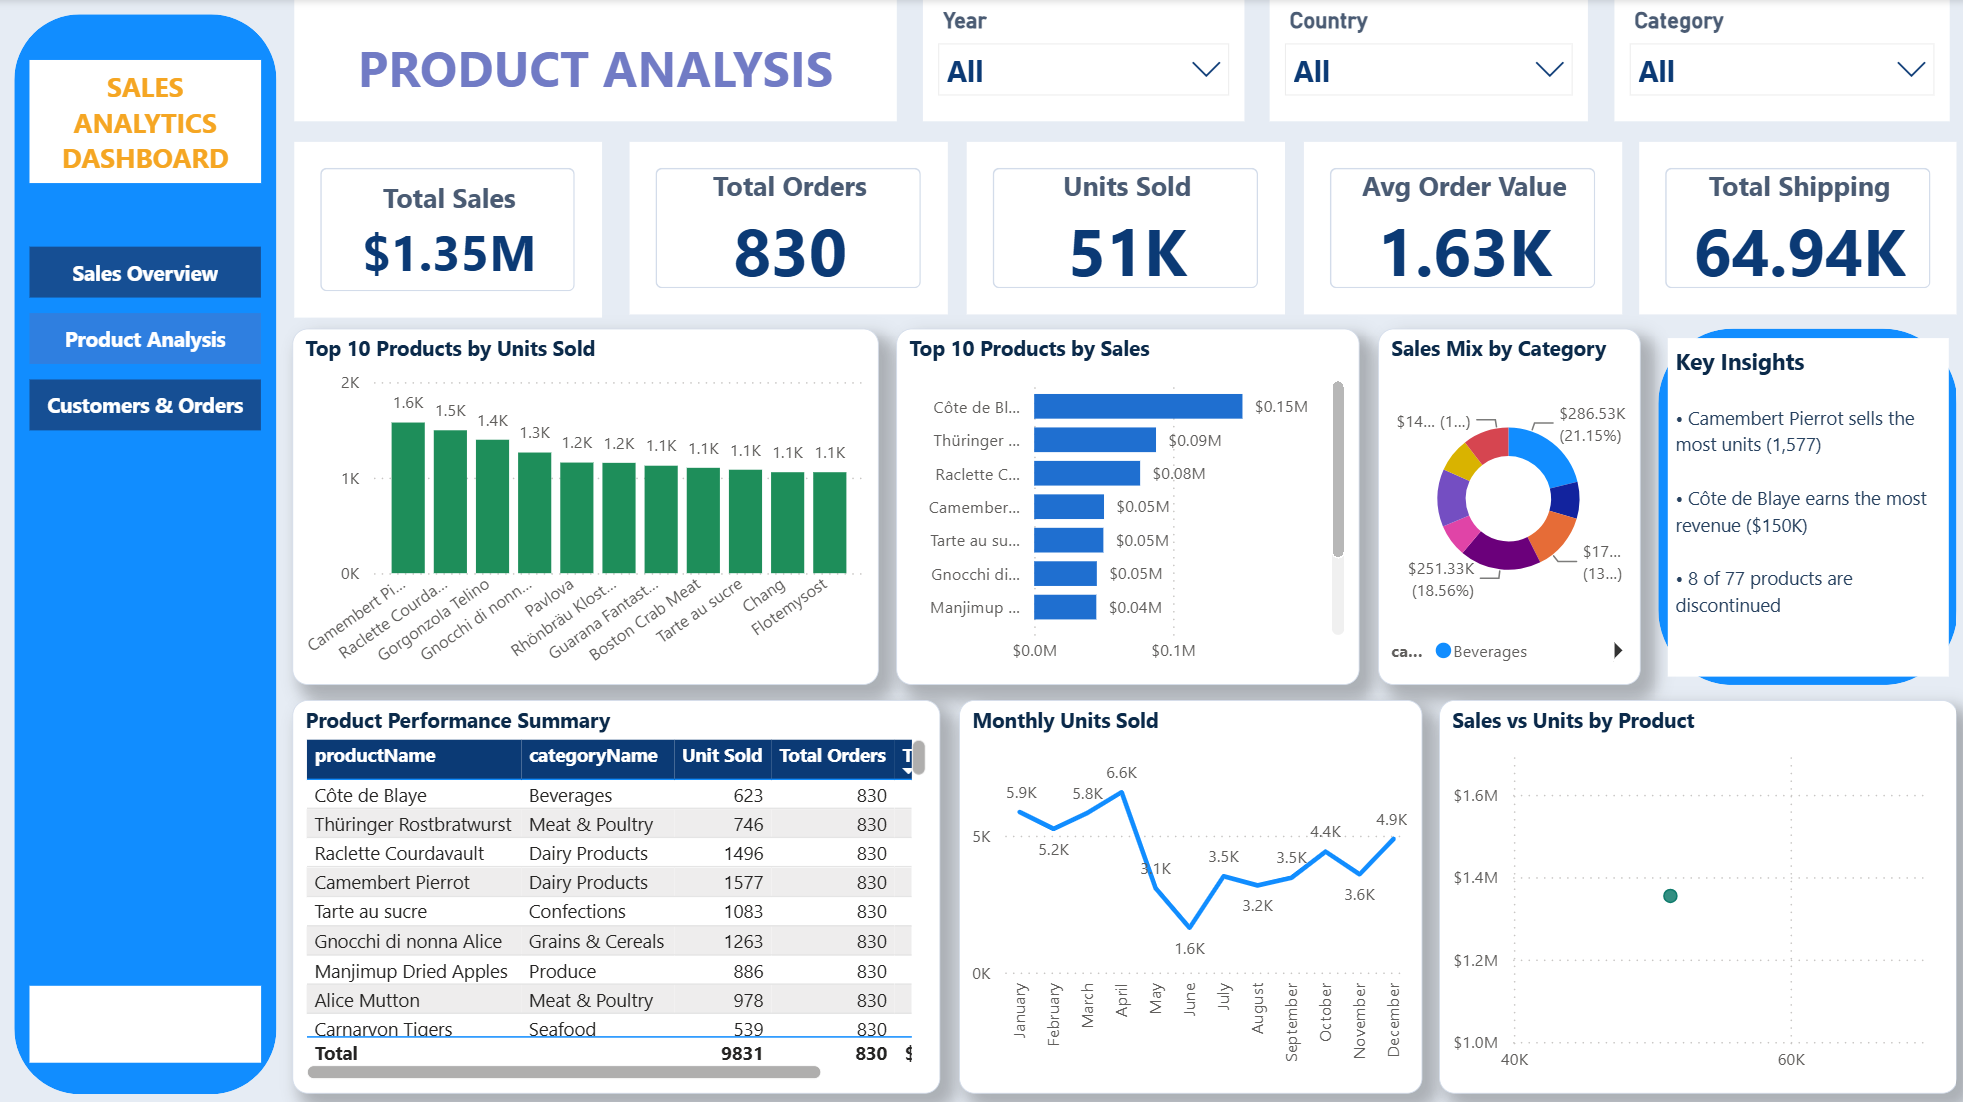

Layout of this report page (visuals, bound fields, positions):
{"tool":"powerbi","page":{"name":"Product Analysis","canvas":[1280,720],"ordinal":1},"visuals":[{"type":"shape","box":[10,10,170,700],"z":0},{"type":"textbox","box":[20,40,150,80],"z":1000},{"type":"pageNavigator","box":[20,160,150,120],"z":2000},{"type":"textbox","box":[20,640,150,50],"z":3000},{"type":"clusteredColumnChart","title":"Top 10 Products by Units Sold","fields":{"Category":["products.productName"],"Y":["categories.Unit Sold"]},"box":[190,214,380,231.2],"z":15000},{"type":"clusteredBarChart","title":"Top 10 Products by Sales","fields":{"Category":["products.productName"],"Y":["categories.Total sales"]},"box":[582,214,300,231.2],"z":16000},{"type":"donutChart","title":"Sales Mix by Category","fields":{"Category":["categories.categoryName"],"Y":["categories.Total sales"]},"box":[894,214,170,231.2],"z":17000},{"type":"shape","box":[1076,214,194,231.2],"z":18000},{"type":"textbox","box":[1082,219.8,182,219.6],"z":19000},{"type":"tableEx","title":"Product Performance Summary","fields":{"Values":["products.productName","categories.categoryName","categories.Unit Sold","categories.Total Orders","categories.Total sales"]},"box":[190,454.8,420,255.2],"z":20000},{"type":"lineChart","title":"Monthly Units Sold","fields":{"Category":["orders.orderDate.Variation.Date Hierarchy.Month"],"Y":["categories.Unit Sold"]},"box":[622,454.8,300,255.2],"z":21000},{"type":"scatterChart","title":"Sales vs Units by Product","fields":{"Details":["products.productName"],"X":["categories.Unit Sold"],"Y":["categories.Total sales"]},"box":[934,454.8,336,255.2],"z":22000},{"type":"slicer","fields":{"Values":["orders.orderDate.Variation.Date Hierarchy.Year"]},"box":[599.2,0,208.5,79],"z":22001},{"type":"slicer","fields":{"Values":["customers.country"]},"box":[823,0,206.3,79],"z":22002},{"type":"slicer","fields":{"Values":["categories.categoryName"]},"box":[1046.9,0,217.3,79],"z":22003},{"type":"textbox","box":[190.9,0,390.7,79],"z":22004},{"type":"cardVisual","fields":{"Data":["categories.Total sales"]},"box":[190.9,92.2,199.7,114.1],"z":22005},{"type":"cardVisual","fields":{"Data":["categories.Total Orders"]},"box":[408.4,92,206.4,112],"z":22006},{"type":"cardVisual","fields":{"Data":["categories.Unit Sold"]},"box":[626.8,92,206.4,112],"z":22007},{"type":"cardVisual","fields":{"Data":["categories.Avg order"]},"box":[845.2,92,206.4,112],"z":22008},{"type":"cardVisual","fields":{"Data":["categories.Total Shipping"]},"box":[1063.6,92,206.4,112],"z":22009}]}

Visuals, with their boxes in screenshot pixels (x1, y1, x2, y2), scaled from the page's 1280x720 canvas onto the 1963x1102 screenshot:
shape: {"left": 15, "top": 15, "right": 276, "bottom": 1087}
textbox: {"left": 31, "top": 61, "right": 261, "bottom": 184}
pageNavigator: {"left": 31, "top": 245, "right": 261, "bottom": 429}
textbox: {"left": 31, "top": 980, "right": 261, "bottom": 1056}
"Top 10 Products by Units Sold" clusteredColumnChart: {"left": 291, "top": 328, "right": 874, "bottom": 681}
"Top 10 Products by Sales" clusteredBarChart: {"left": 893, "top": 328, "right": 1353, "bottom": 681}
"Sales Mix by Category" donutChart: {"left": 1371, "top": 328, "right": 1632, "bottom": 681}
shape: {"left": 1650, "top": 328, "right": 1948, "bottom": 681}
textbox: {"left": 1659, "top": 336, "right": 1938, "bottom": 673}
"Product Performance Summary" tableEx: {"left": 291, "top": 696, "right": 935, "bottom": 1087}
"Monthly Units Sold" lineChart: {"left": 954, "top": 696, "right": 1414, "bottom": 1087}
"Sales vs Units by Product" scatterChart: {"left": 1432, "top": 696, "right": 1948, "bottom": 1087}
slicer - orders.orderDate.Variation.Date Hierarchy.Year: {"left": 919, "top": 0, "right": 1239, "bottom": 121}
slicer - customers.country: {"left": 1262, "top": 0, "right": 1579, "bottom": 121}
slicer - categories.categoryName: {"left": 1606, "top": 0, "right": 1939, "bottom": 121}
textbox: {"left": 293, "top": 0, "right": 892, "bottom": 121}
cardVisual - categories.Total sales: {"left": 293, "top": 141, "right": 599, "bottom": 316}
cardVisual - categories.Total Orders: {"left": 626, "top": 141, "right": 943, "bottom": 312}
cardVisual - categories.Unit Sold: {"left": 961, "top": 141, "right": 1278, "bottom": 312}
cardVisual - categories.Avg order: {"left": 1296, "top": 141, "right": 1613, "bottom": 312}
cardVisual - categories.Total Shipping: {"left": 1631, "top": 141, "right": 1948, "bottom": 312}
